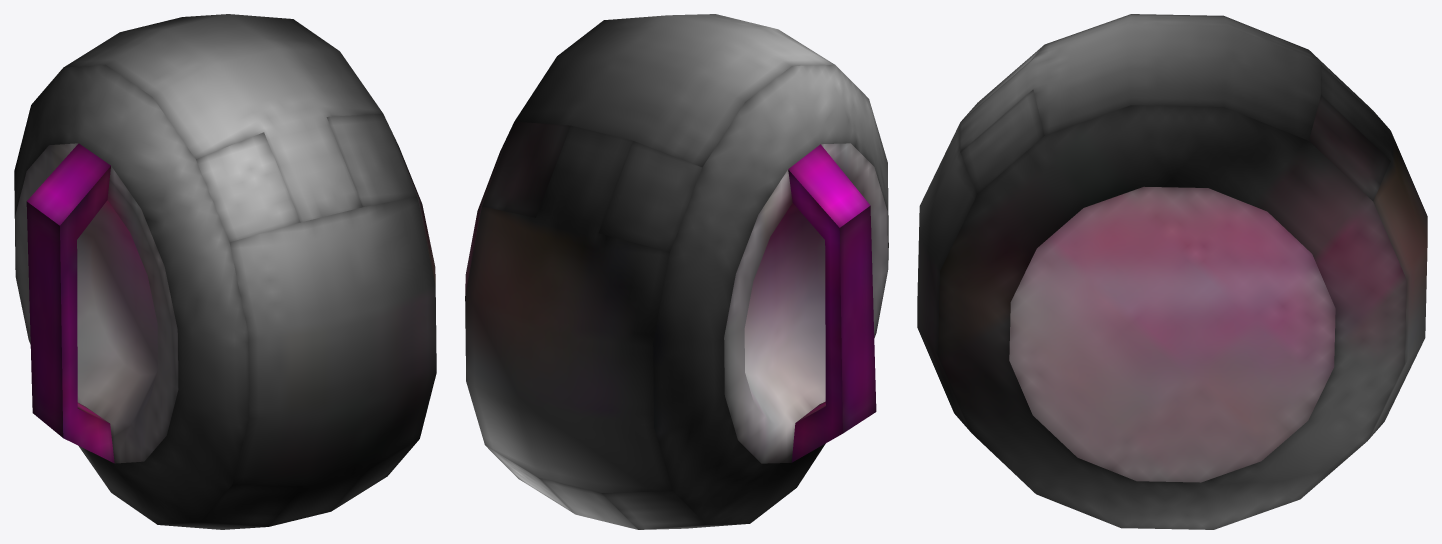
Rendered from frontright.obj.
3 views of the same model, side by side, from view 1: azimuth 30°, elevation 25°; view 2: azimuth 150°, elevation 25°; view 3: azimuth 270°, elevation 25° (orthographic).
Parts seen in each view (by area): view 1: Object013; view 2: Object013; view 3: Object013.
Boxes of the visible parts, x1,y1,x2,y2 form: Object013: (14,14,436,529); Object013: (465,14,888,529); Object013: (917,14,1427,529).
Size of the model in its own units: 5.4 by 7.73 by 7.73.
1 material, 1 textured.
